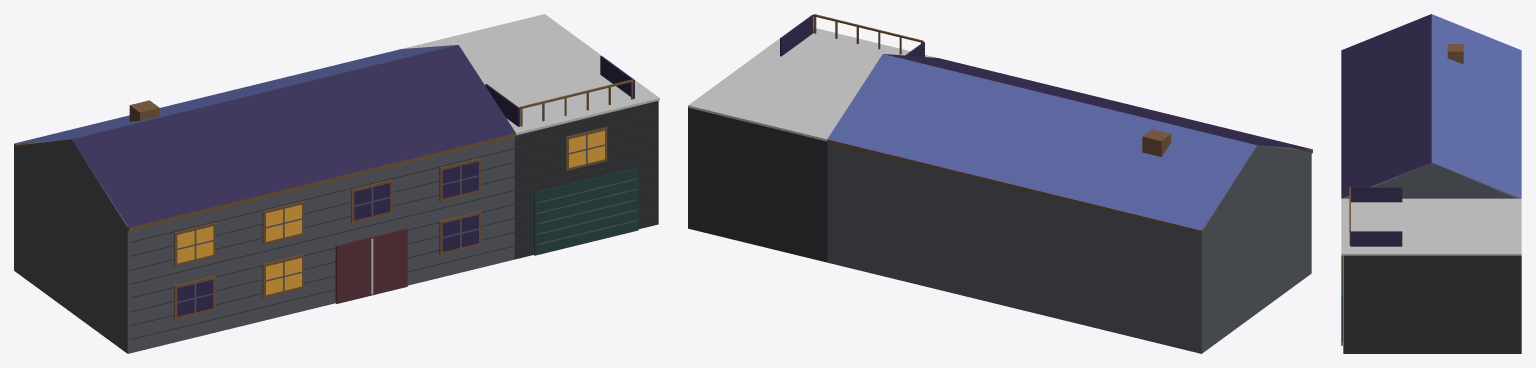
The model's file is PartyHouse.obj.
The picture shows the model from 3 angles, left to right: view 1: azimuth 30°, elevation 25°; view 2: azimuth 150°, elevation 25°; view 3: azimuth 270°, elevation 25°; orthographic projection. The views are drawn at different scales.
Parts seen in each view (by area): view 1: PartyHouse; view 2: PartyHouse; view 3: PartyHouse.
Boxes of the visible parts, x1,y1,x2,y2 form: PartyHouse: (14,14,659,353); PartyHouse: (688,14,1312,353); PartyHouse: (1341,14,1521,353).
Size of the model in its own units: 24 by 7.5 by 9.
1 material, 1 textured.
